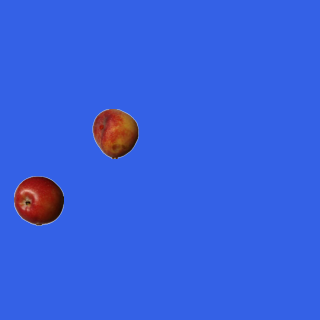Apple Braeburn: (13, 175, 63, 225)
Peach: (90, 108, 140, 158)
